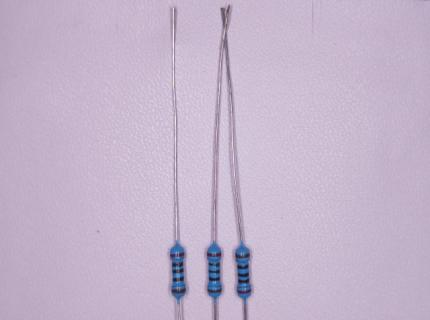Black band: (238, 278, 250, 284), (172, 268, 183, 274), (208, 262, 220, 267), (208, 277, 220, 282), (237, 272, 249, 277), (237, 265, 249, 270), (171, 262, 183, 267), (172, 278, 184, 283), (208, 270, 220, 274)
Brown band: (235, 253, 250, 259), (172, 289, 187, 294), (207, 289, 222, 294)
Red band: (237, 288, 252, 294), (170, 252, 184, 258), (207, 253, 222, 257)
